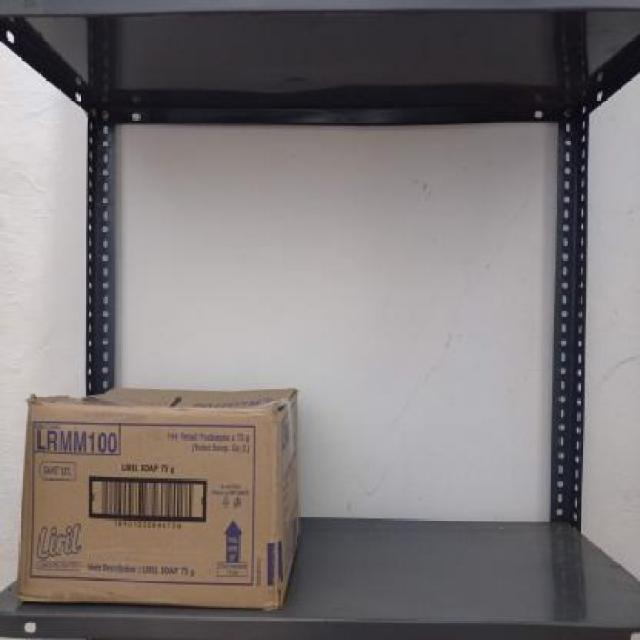box: (17, 410, 279, 598)
